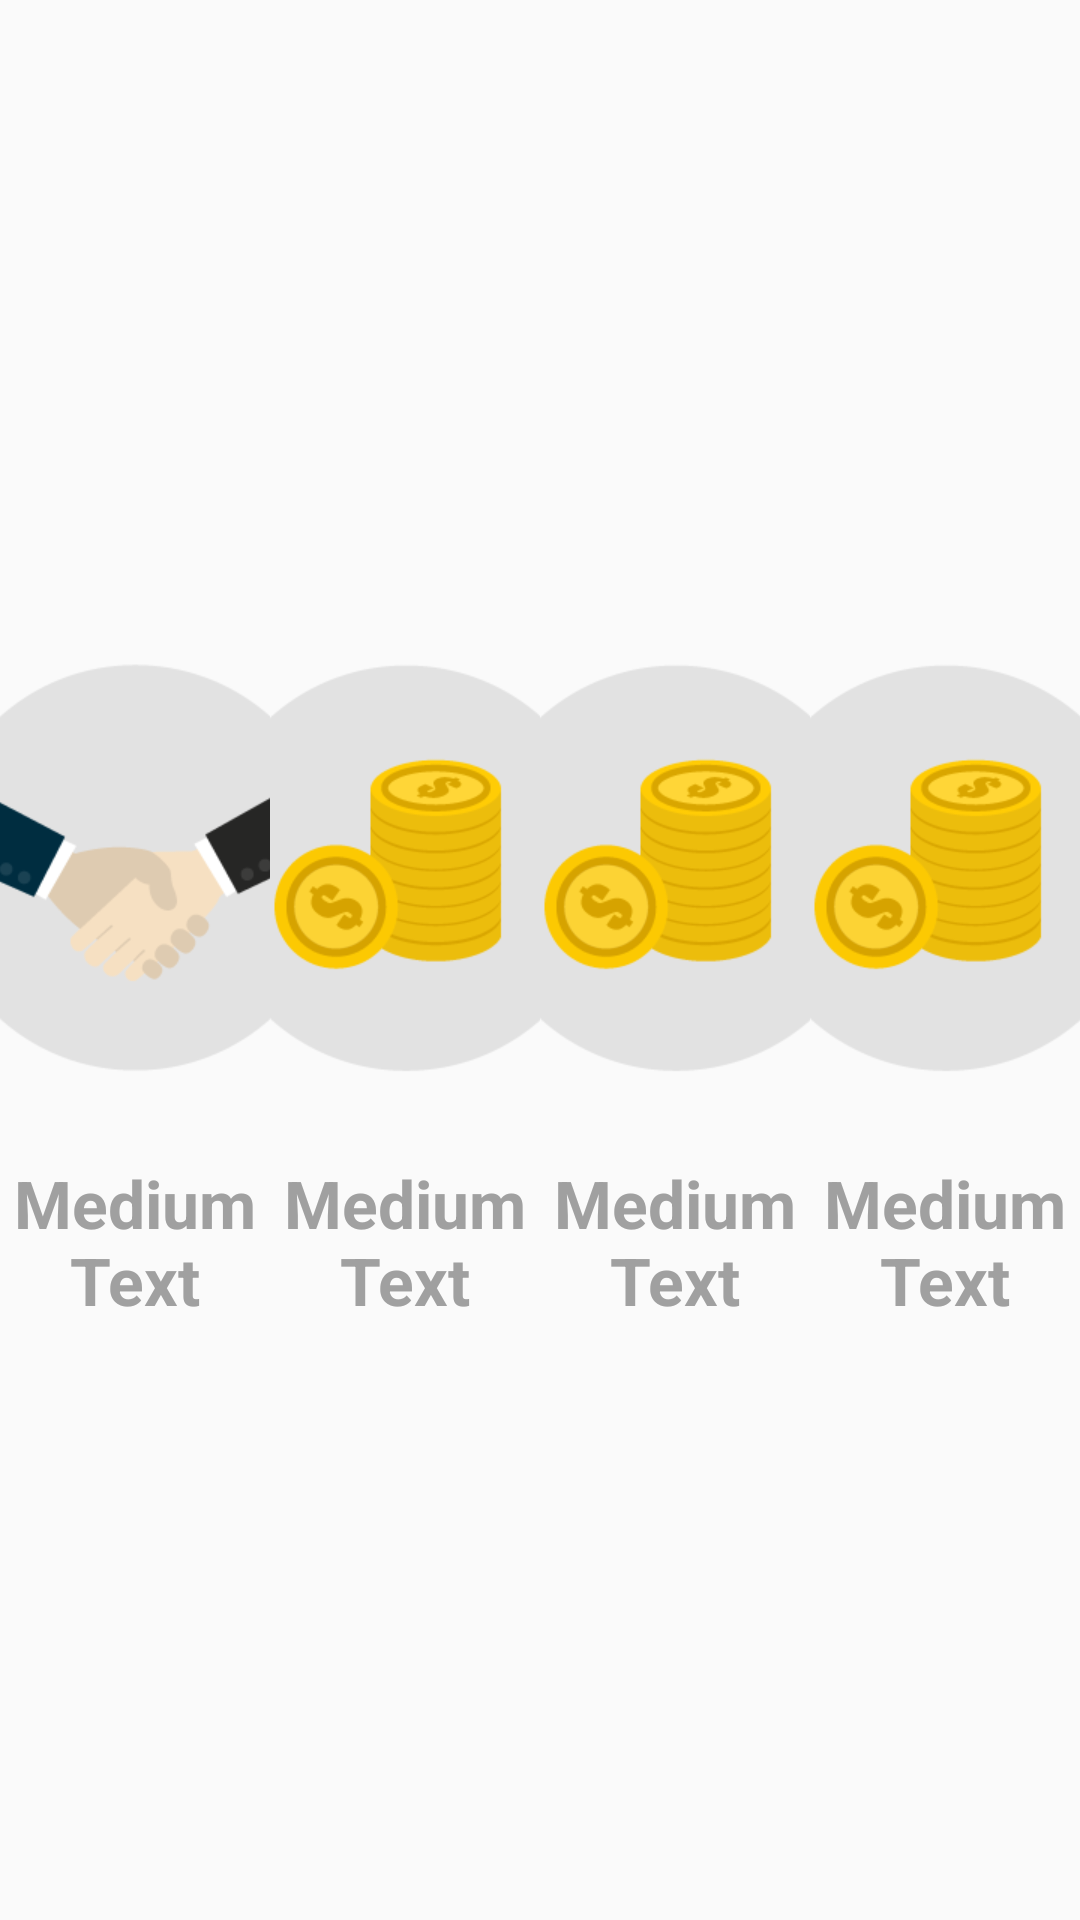

Icon bounding boxes for this 1080x1920 phone screenshot, format [left=x1, top=y1, right=x2, bottom=y2]:
inversionista: [left=274, top=758, right=502, bottom=970], [left=544, top=758, right=772, bottom=970], [left=814, top=758, right=1042, bottom=970]
